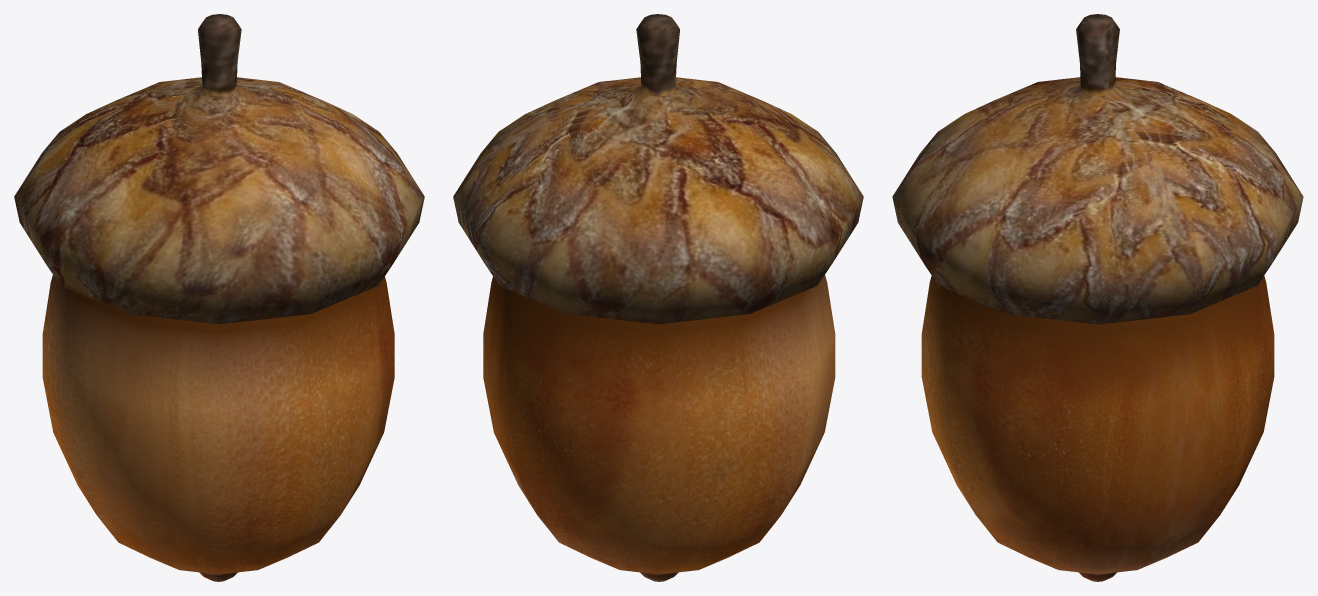
Rendered from acorn.fbx.
3 views of the same model, side by side, from view 1: azimuth 30°, elevation 25°; view 2: azimuth 150°, elevation 25°; view 3: azimuth 270°, elevation 25° (orthographic).
Visible parts, largest first — view 1: Acorn; view 2: Acorn; view 3: Acorn.
Part boxes in pixels (x1,y1,x2,y2): Acorn: (14, 14, 424, 581); Acorn: (453, 14, 863, 581); Acorn: (892, 14, 1303, 581).
Size of the model in its own units: 3.99 by 5.99 by 3.99.
1 material, 1 textured.
